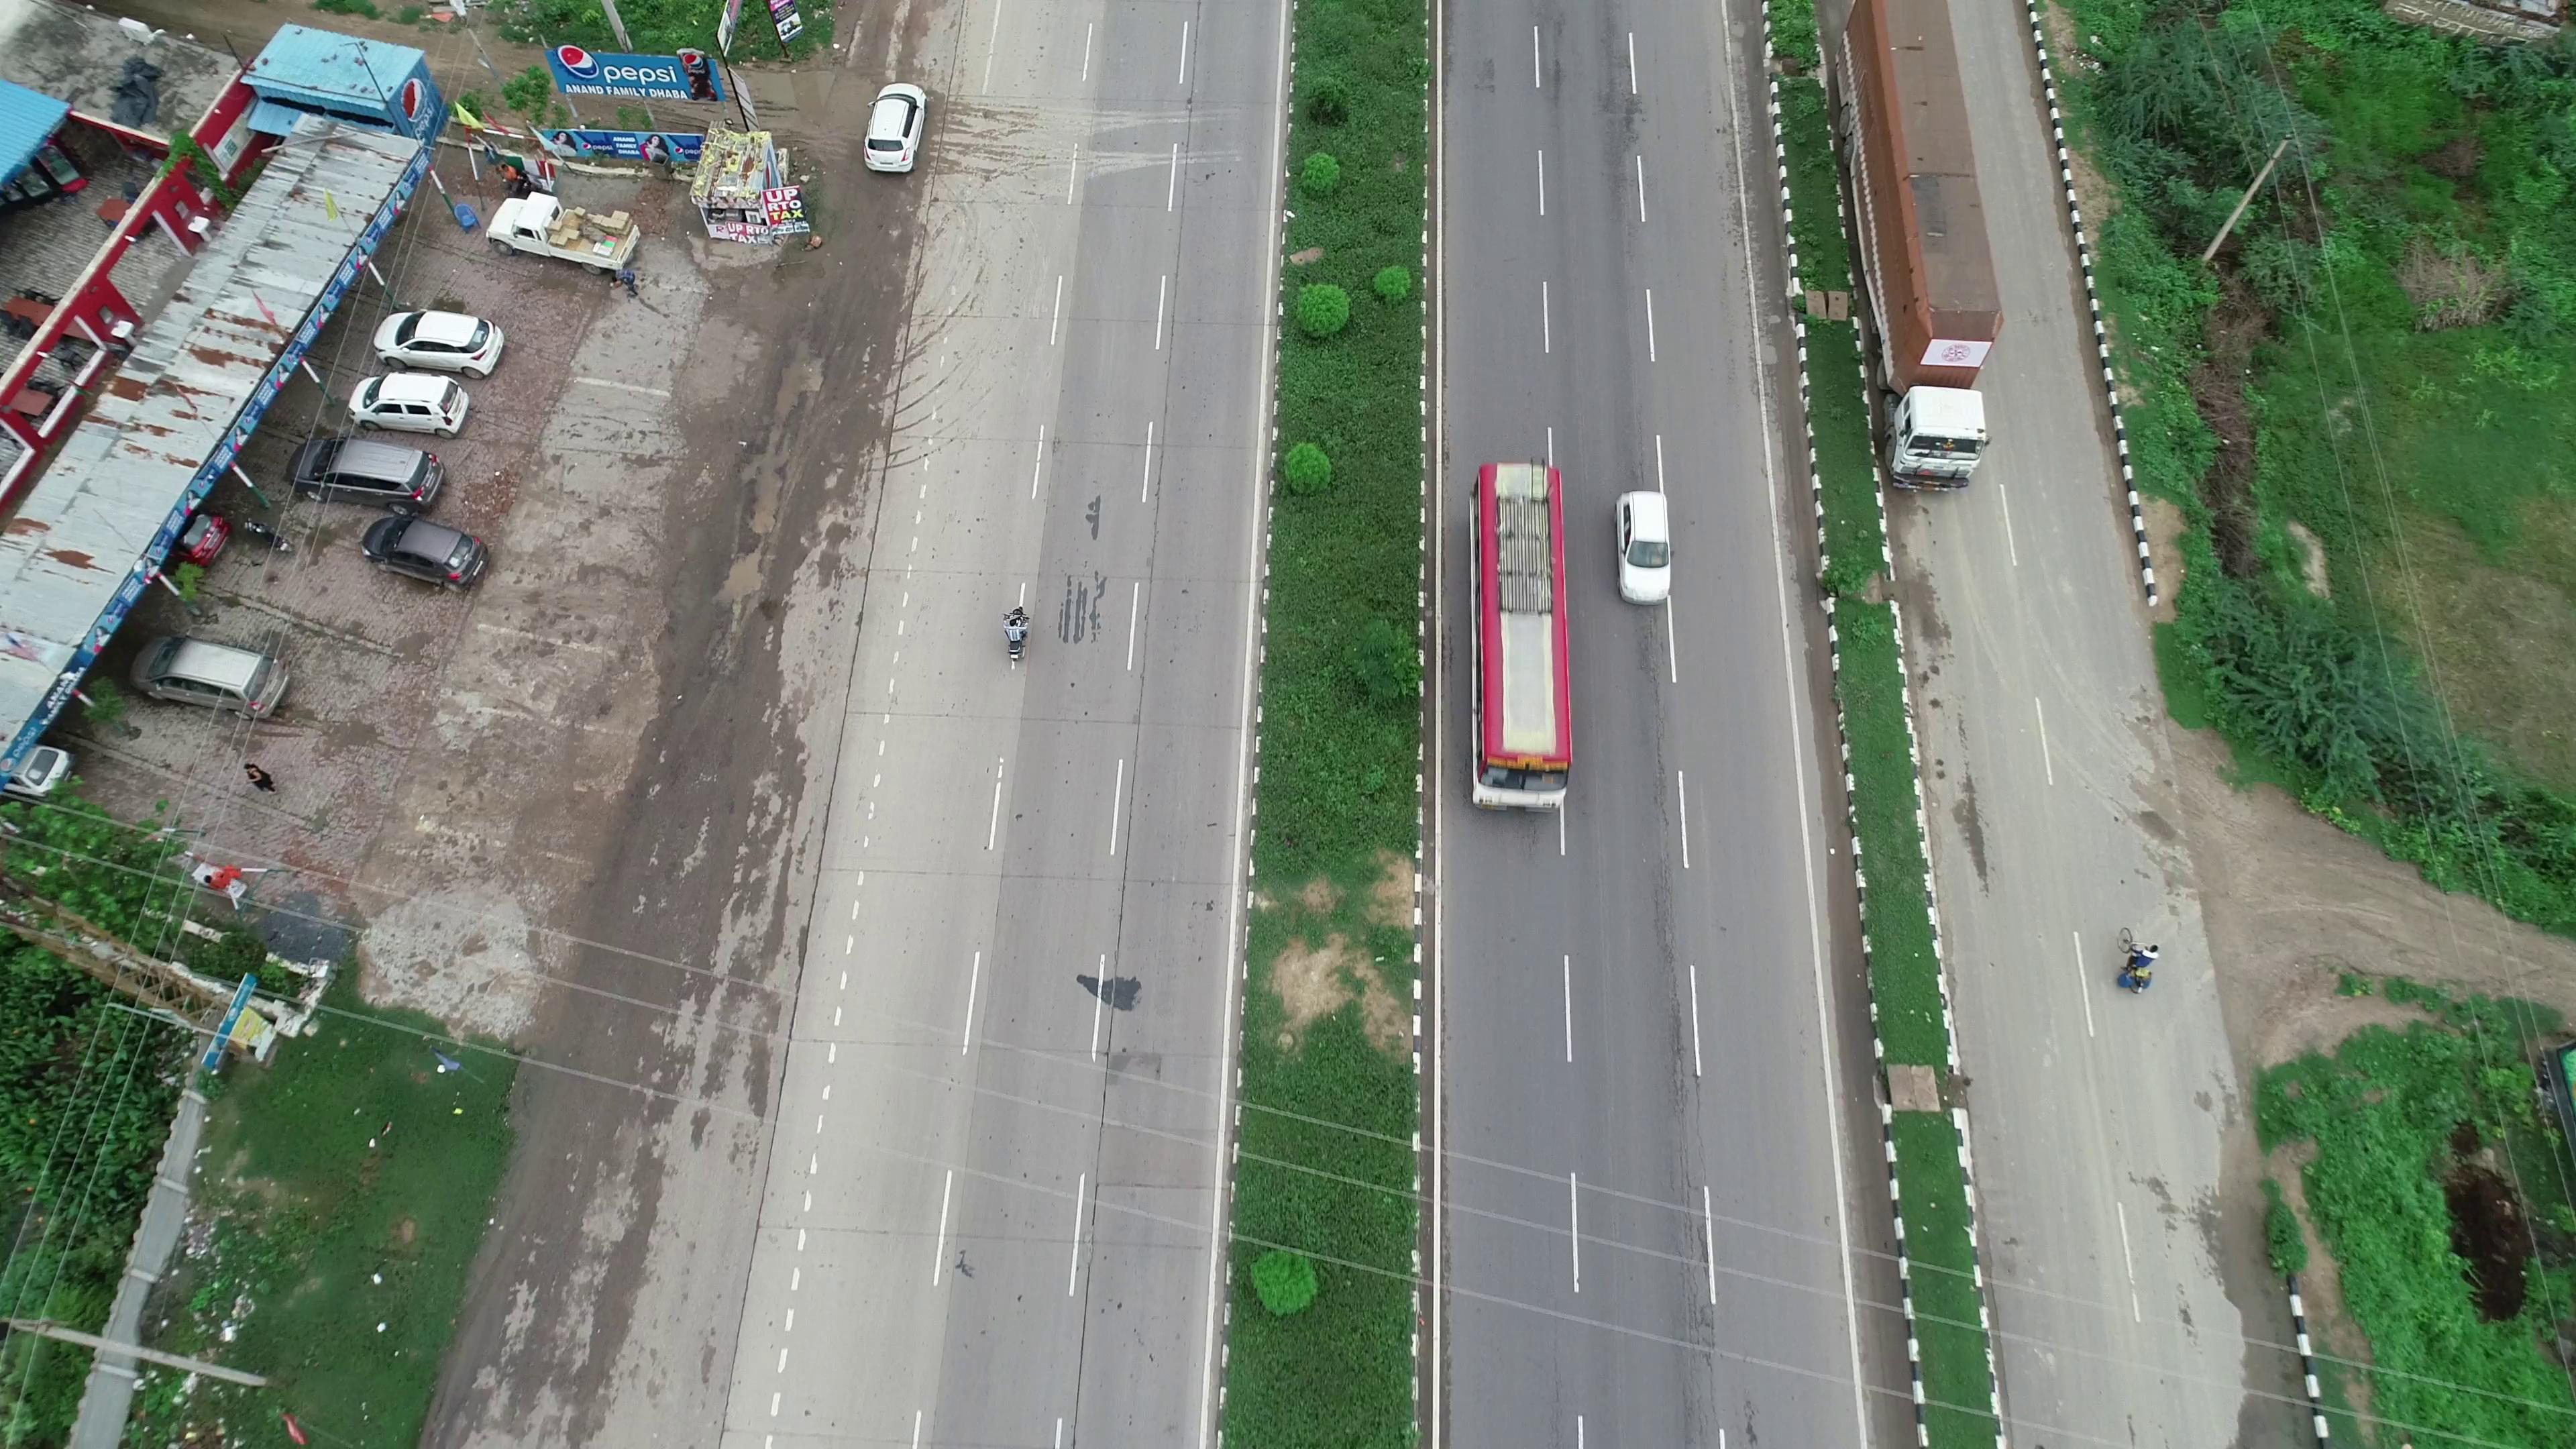Ravelling: (1631, 616, 1693, 1092), (1665, 1102, 1709, 1385)
